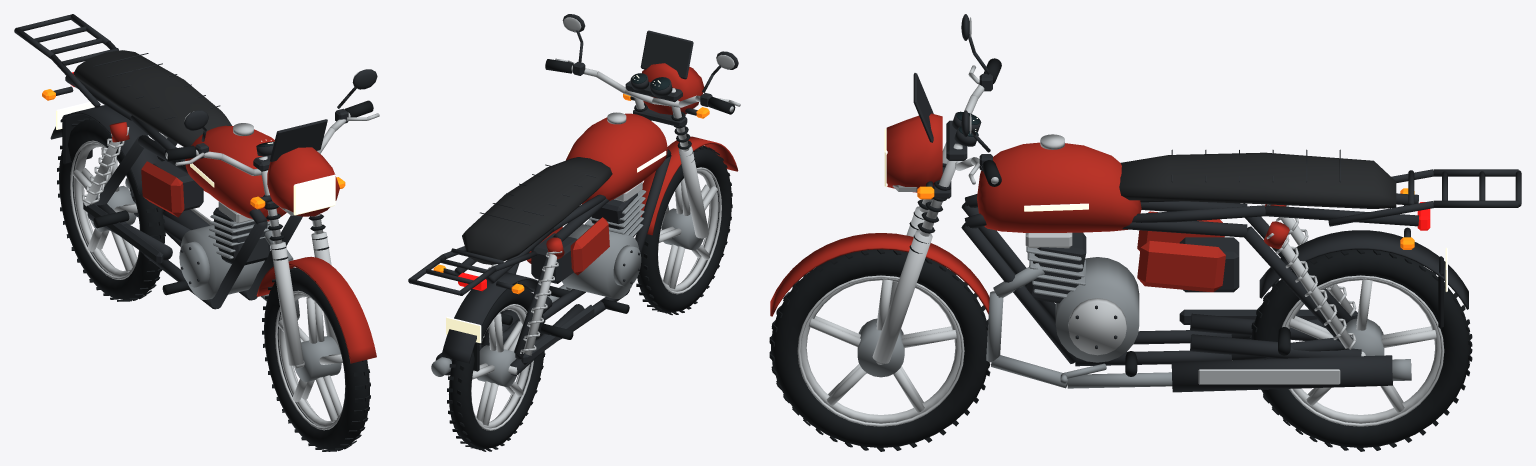
File: motorcycle.glb
The picture shows the model from 3 angles, left to right: view 1: azimuth 30°, elevation 25°; view 2: azimuth 150°, elevation 25°; view 3: azimuth 270°, elevation 25°; orthographic projection. The views are drawn at different scales.
Parts seen in each view (by area): view 1: body_Graphite_frame, front_wheel, rear_wheel, body_Coral_lacquer, body_Saddle_vinyl, body_Aluminium, tank, body_Engine_alloy, handlebar, body_Lamp_ivory, body_Black_rubber; view 2: body_Graphite_frame, front_wheel, rear_wheel, body_Saddle_vinyl, tank, body_Coral_lacquer, body_Engine_alloy, body_Aluminium, handlebar, body_Black_rubber, body_Lamp_ivory, body_Amber_lamp; view 3: body_Graphite_frame, front_wheel, rear_wheel, body_Saddle_vinyl, body_Aluminium, body_Coral_lacquer, tank, body_Engine_alloy, handlebar, body_Black_rubber, body_Lamp_ivory.
Boxes of the visible parts, box(x1,y1,x2,y2) form: body_Graphite_frame: box(14, 14, 327, 309); front_wheel: box(262, 267, 370, 451); rear_wheel: box(57, 117, 165, 301); body_Coral_lacquer: box(109, 122, 376, 363); body_Saddle_vinyl: box(73, 50, 231, 146); body_Aluminium: box(82, 123, 340, 365); tank: box(185, 125, 286, 221); body_Engine_alloy: box(125, 178, 299, 320); handlebar: box(165, 69, 379, 175); body_Lamp_ivory: box(56, 102, 335, 215); body_Black_rubber: box(62, 114, 329, 295); body_Graphite_frame: box(408, 30, 697, 375); front_wheel: box(636, 146, 732, 315); rear_wheel: box(447, 282, 545, 451); body_Saddle_vinyl: box(462, 157, 612, 264); tank: box(566, 113, 667, 204); body_Coral_lacquer: box(527, 63, 738, 275); body_Engine_alloy: box(431, 190, 646, 376); body_Aluminium: box(483, 81, 708, 355); handlebar: box(545, 14, 740, 114); body_Black_rubber: box(452, 102, 694, 371); body_Lamp_ivory: box(446, 73, 700, 343); body_Amber_lamp: box(433, 93, 709, 294); body_Graphite_frame: box(913, 73, 1521, 392); front_wheel: box(769, 249, 990, 451); rear_wheel: box(1249, 249, 1472, 451); body_Saddle_vinyl: box(1119, 152, 1396, 208); body_Aluminium: box(872, 134, 1356, 384); body_Coral_lacquer: box(770, 113, 1289, 316); tank: box(977, 142, 1141, 232); body_Engine_alloy: box(986, 246, 1411, 388); handlebar: box(952, 14, 1001, 186); body_Black_rubber: box(909, 163, 1443, 376); body_Lamp_ivory: box(884, 128, 1447, 291).
Size of the model in its own units: 0.7401 by 1.13 by 2.01.
